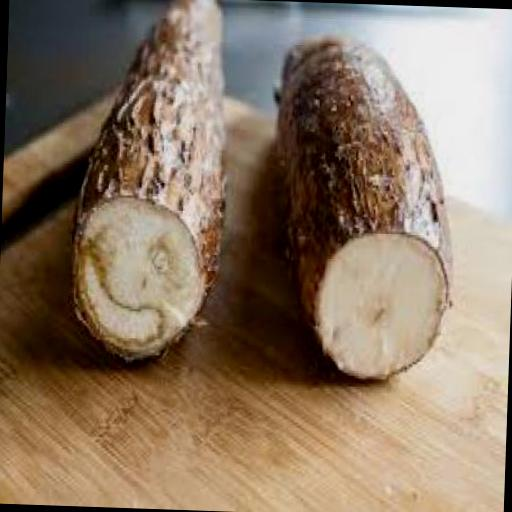biodegradable: (270, 31, 464, 384), (65, 0, 232, 362)
